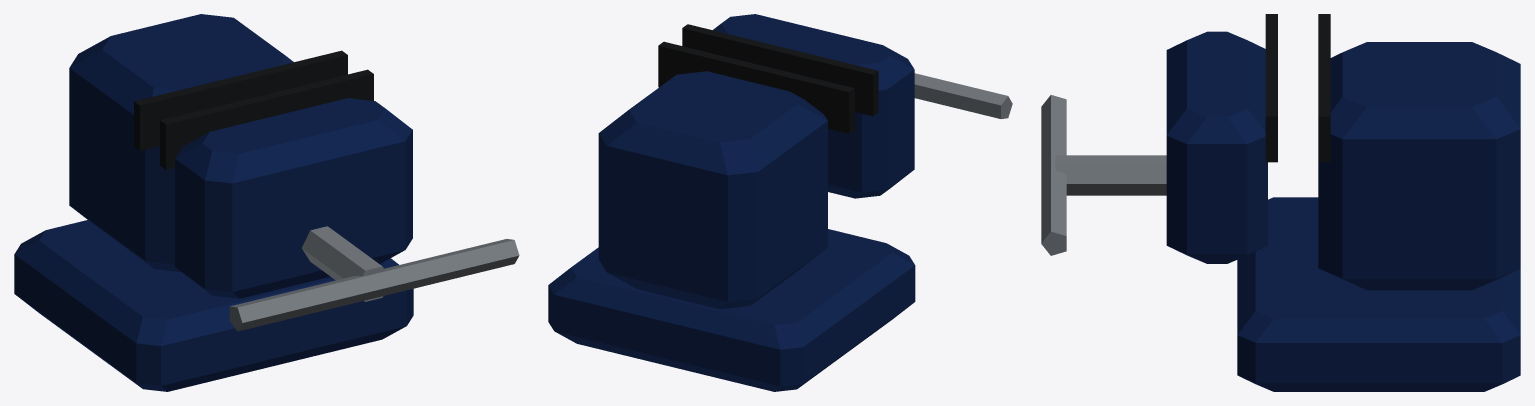
File: SM_Prop_Vise.glb
The picture shows the model from 3 angles, left to right: view 1: azimuth 30°, elevation 25°; view 2: azimuth 150°, elevation 25°; view 3: azimuth 270°, elevation 25°; orthographic projection. The views are drawn at different scales.
Parts seen in each view (by area): view 1: SM_Prop_Vise; view 2: SM_Prop_Vise; view 3: SM_Prop_Vise.
Boxes of the visible parts, <box> form: SM_Prop_Vise: <box>14,14,519,391</box>; SM_Prop_Vise: <box>548,14,1012,391</box>; SM_Prop_Vise: <box>1041,14,1520,391</box>.
Size of the model in its own units: 0.16 by 0.145 by 0.237.
1 material, 1 textured.
